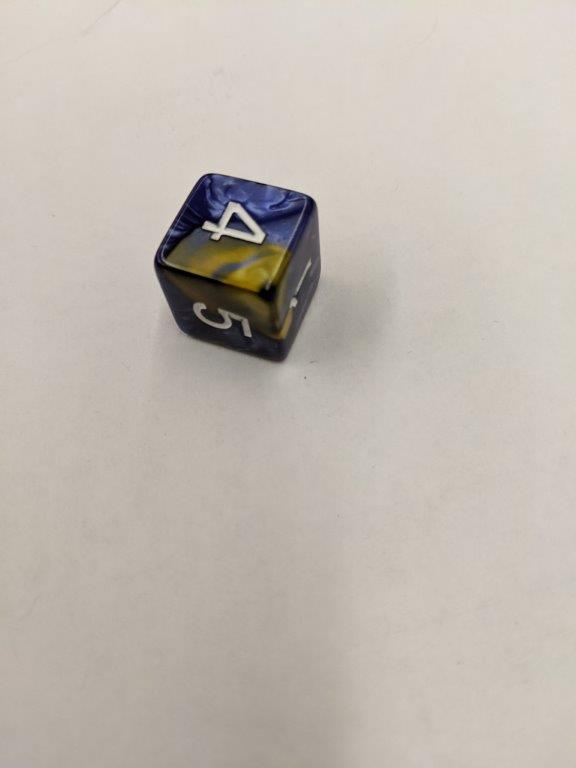d6-4: (151, 174, 324, 367)
